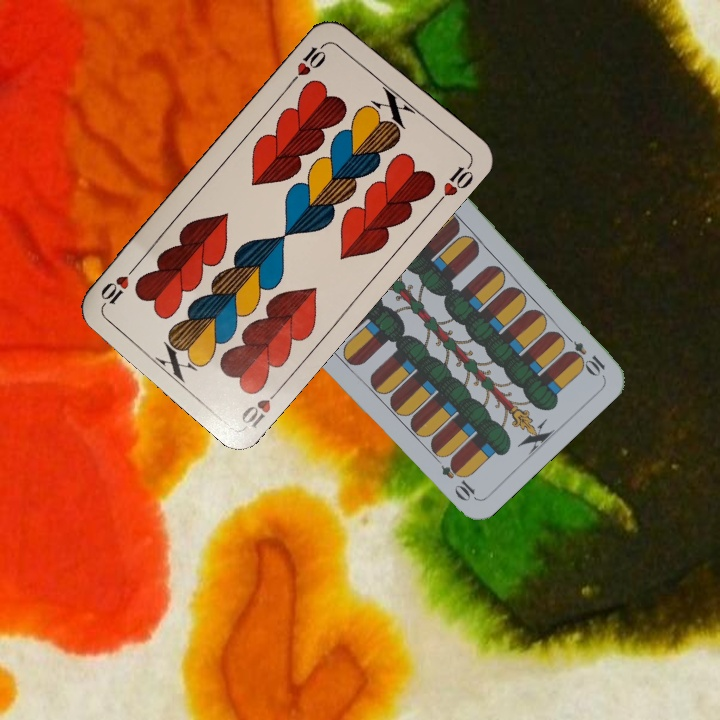E10: (558, 329, 608, 378)
H10: (237, 381, 285, 431), (286, 38, 331, 86)
